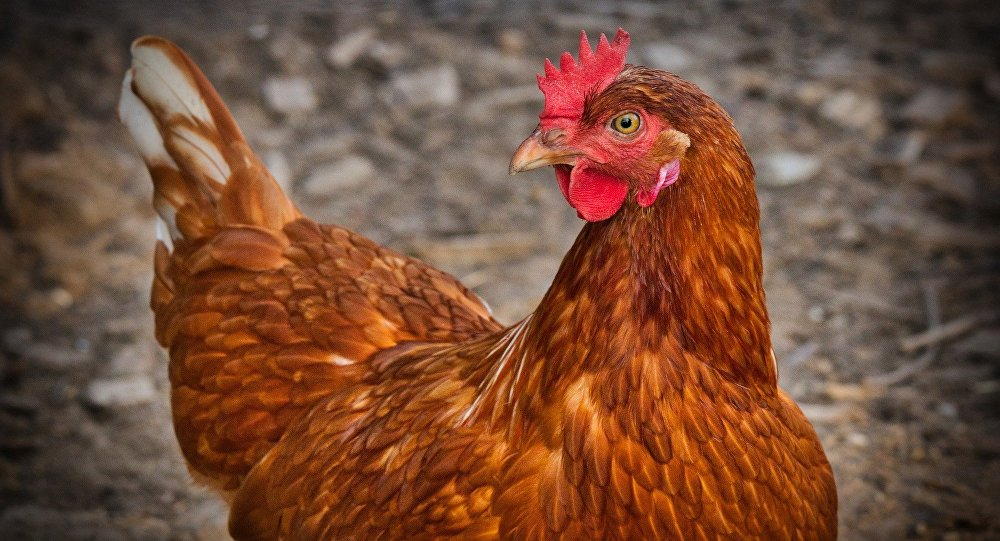chicken: (108, 25, 841, 541)
